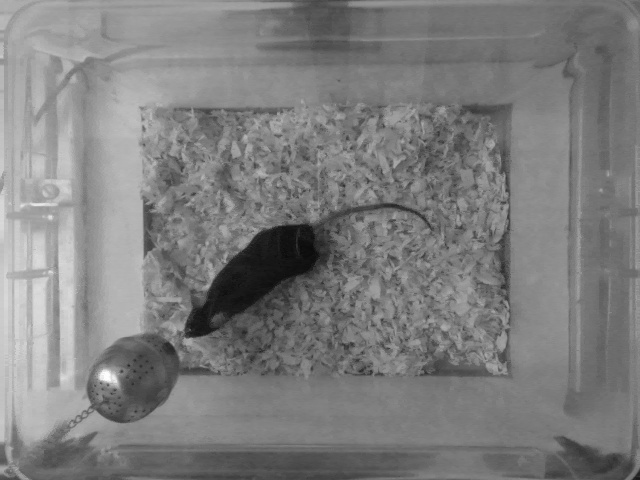mice: (176, 196, 435, 342)
